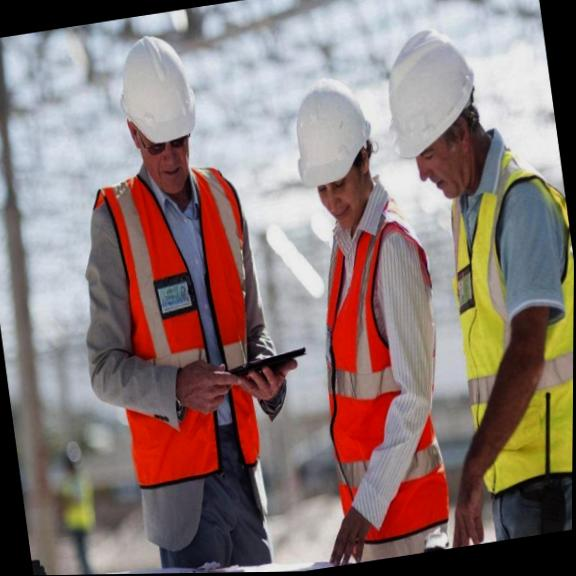safety_vest: (76, 147, 286, 506), (286, 196, 469, 542), (424, 153, 575, 511)
